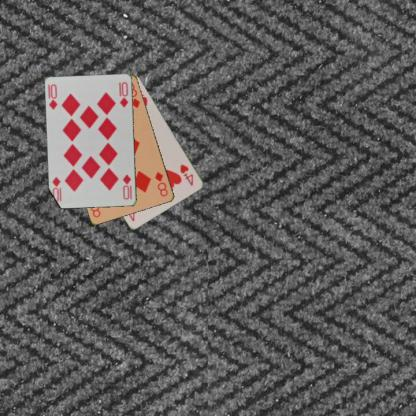10d: (120, 172, 133, 201), (47, 82, 59, 111)
4h: (177, 162, 195, 187)
8d: (152, 169, 170, 198)
